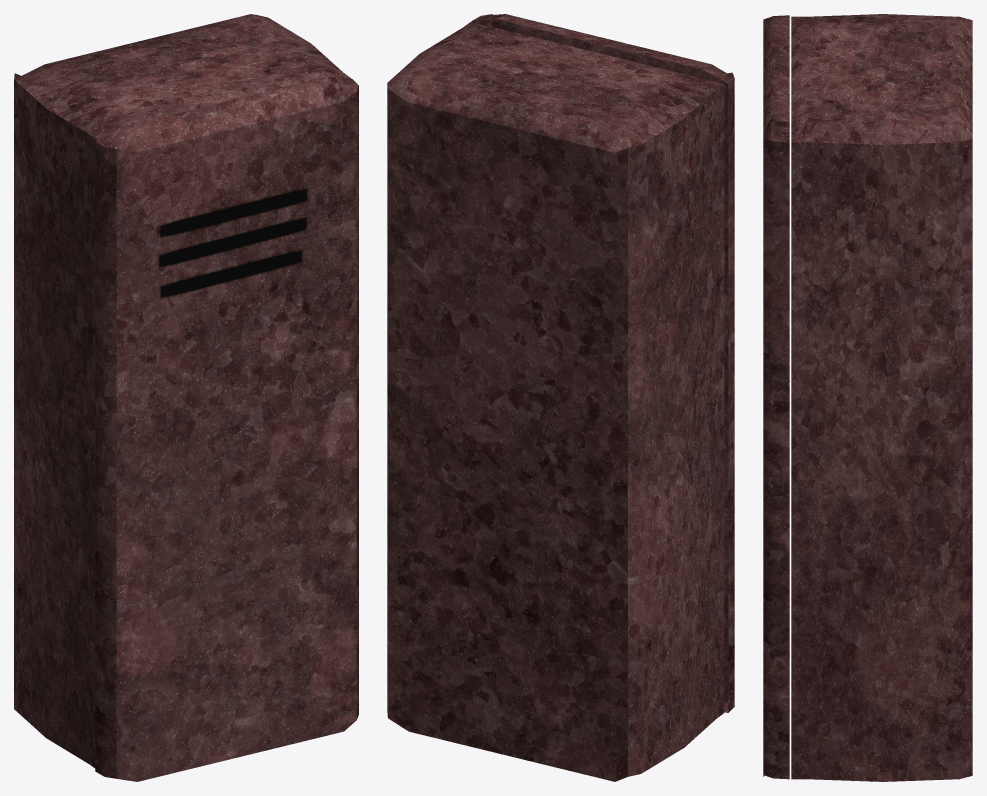
Rendered from Locker1.fbx.
3 renders of one model, left to right at view 1: azimuth 30°, elevation 25°; view 2: azimuth 150°, elevation 25°; view 3: azimuth 270°, elevation 25°, orthographic.
Visible parts, largest first — view 1: polySurface1, polySurface3; view 2: polySurface3, polySurface1; view 3: polySurface3, polySurface1.
Part boxes in pixels (x1,y1,x2,y2): polySurface1: (95, 76, 358, 781); polySurface3: (14, 14, 351, 768); polySurface3: (387, 22, 724, 781); polySurface1: (471, 14, 734, 712); polySurface3: (791, 14, 972, 781); polySurface1: (763, 15, 789, 779).
Bounding box in the file's own units: 7.53 × 17.59 × 5.08.
1 material, 1 textured.
